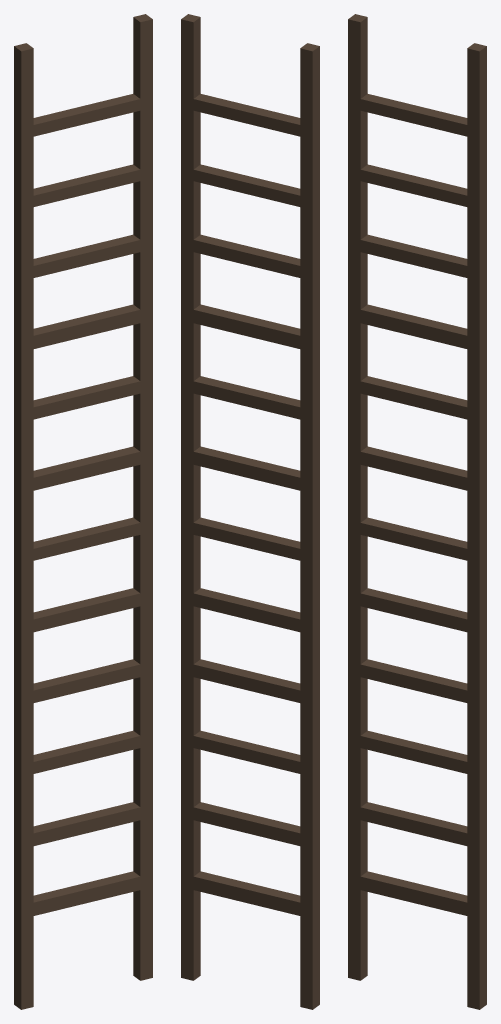
The model's file is Ladder.fbx.
The picture shows the model from 3 angles, left to right: view 1: azimuth 30°, elevation 25°; view 2: azimuth 150°, elevation 25°; view 3: azimuth 330°, elevation 25°; orthographic projection.
Visible parts, largest first — view 1: pCube81; view 2: pCube81; view 3: pCube81.
Boxes of the visible parts, x1=… form: pCube81: x1=14, y1=14, x2=152, y2=1009; pCube81: x1=181, y1=14, x2=319, y2=1009; pCube81: x1=348, y1=14, x2=486, y2=1009.
Bounding box in the file's own units: 1.94 × 13.51 × 0.1838.
